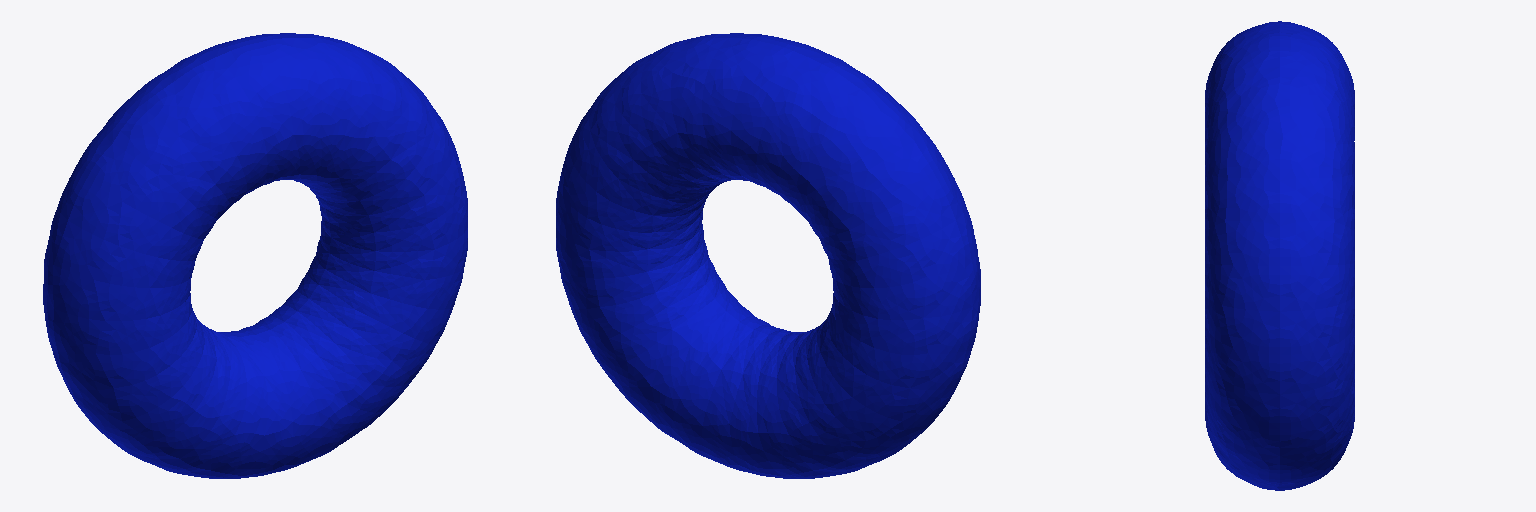
Rendered from toruscontaintorusball.obj.
3 views of the same model, side by side, from view 1: azimuth 30°, elevation 25°; view 2: azimuth 150°, elevation 25°; view 3: azimuth 270°, elevation 25° (orthographic).
Visible parts, largest first — view 1: vecgcs.0; view 2: vecgcs.0; view 3: vecgcs.0.
Boxes of the visible parts, box(x1,y1,x2,y2) form: vecgcs.0: box(43, 33, 467, 478); vecgcs.0: box(556, 33, 980, 478); vecgcs.0: box(1205, 21, 1354, 490).
Size of the model in its own units: 5.81 by 5.82 by 1.86.